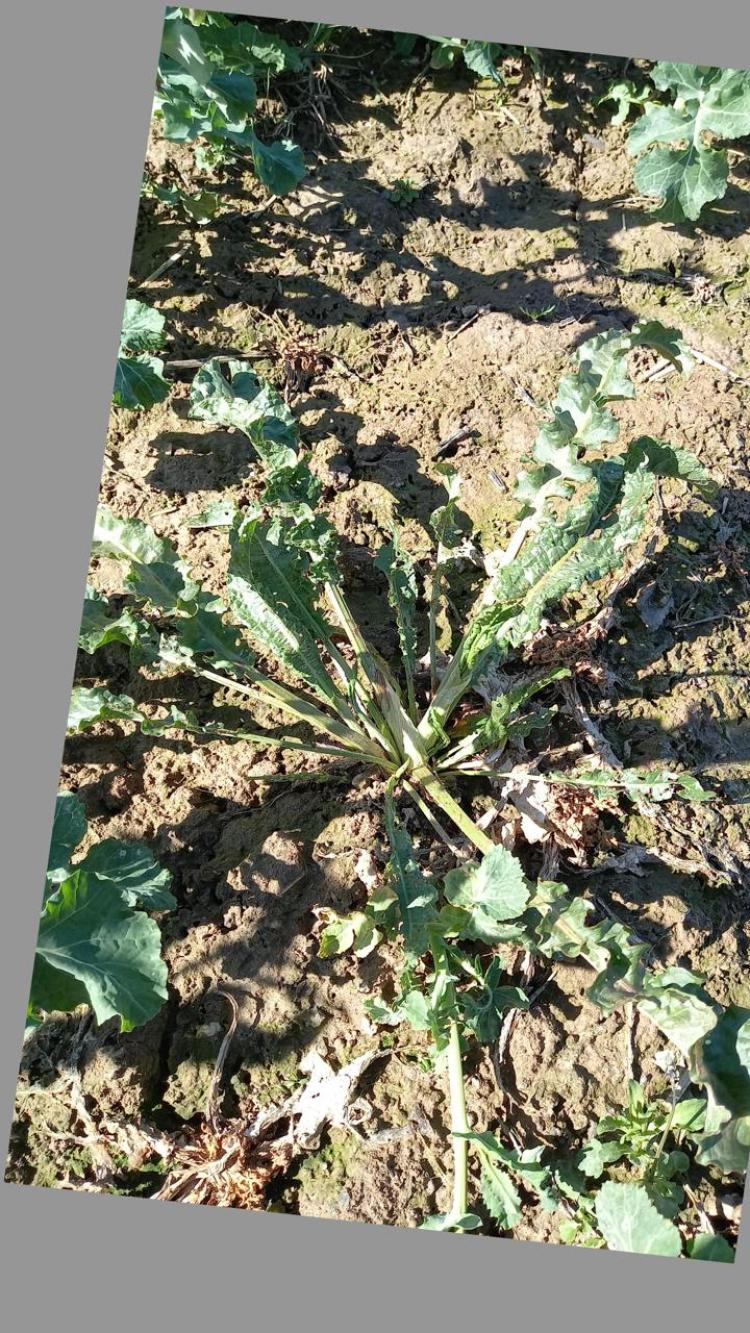zhavel: (64, 337, 750, 1232)
